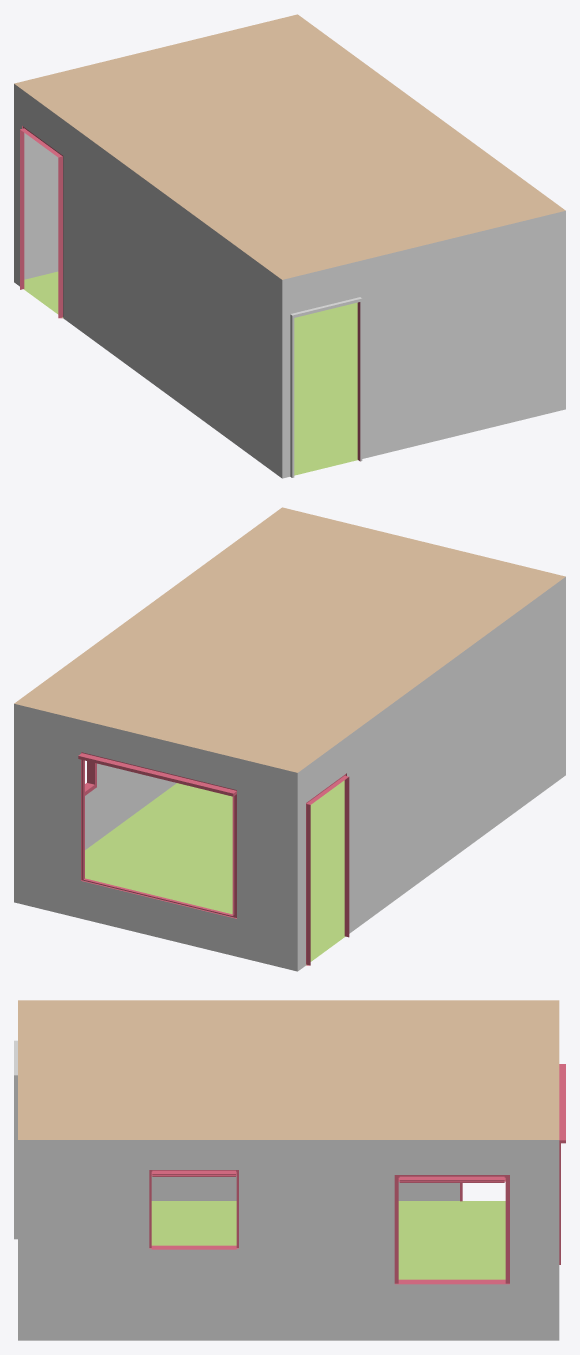
The model's file is kitchen.gltf.
3 views of the same model, one above another, from view 1: azimuth 30°, elevation 25°; view 2: azimuth 150°, elevation 25°; view 3: azimuth 270°, elevation 25° (orthographic).
Visible parts, largest first — view 1: room; view 2: room; view 3: room.
Part boxes in pixels (<box>): room: <box>14,14,565,478</box>; room: <box>14,507,565,971</box>; room: <box>14,1000,565,1340</box>.
Size of the model in its own units: 12.06 by 7.79 by 19.44.
